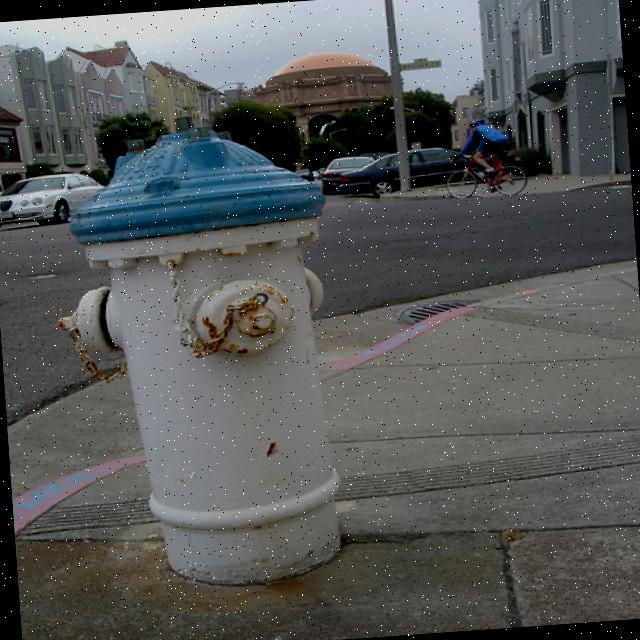fire_hydrant: (42, 117, 352, 594)
